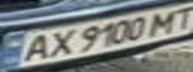0: (127, 14, 154, 40), (112, 17, 136, 45)
1: (97, 20, 118, 48)
9: (75, 23, 103, 53)
A: (15, 31, 54, 64)
M: (145, 8, 184, 36)
T: (166, 3, 193, 32)
X: (42, 27, 78, 60)
